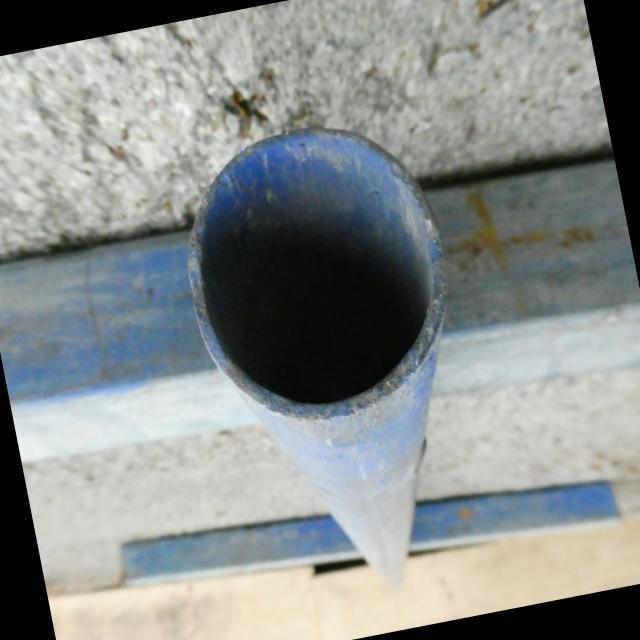pipe: (187, 125, 445, 418)
